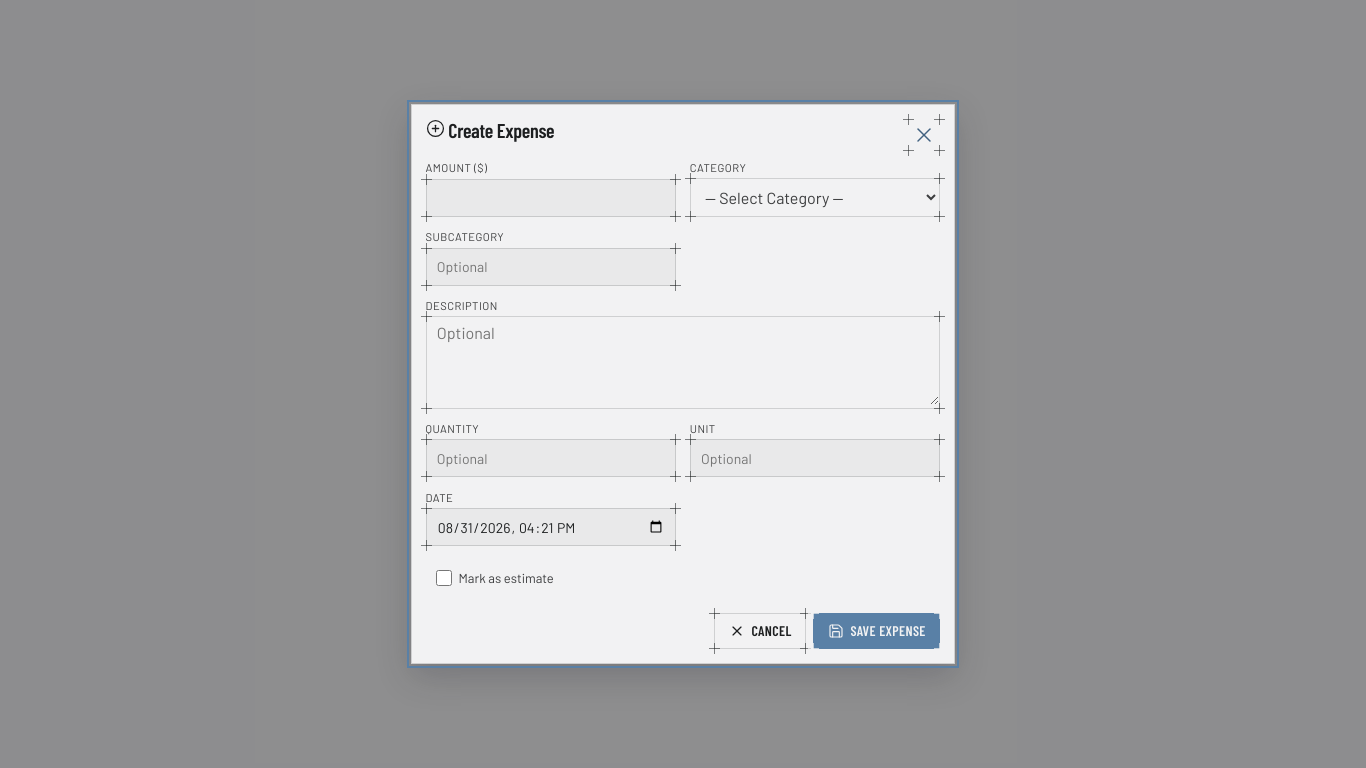
Scenario: ExpenseFormModal › auto-computes and displays per-unit cost when quantity is provided
The width and height of the screenshot is (1366, 768).
Type "5.00" into the number field labelled "Amount ($)" at (551, 198), box x1=427 y1=180 x2=675 y2=216
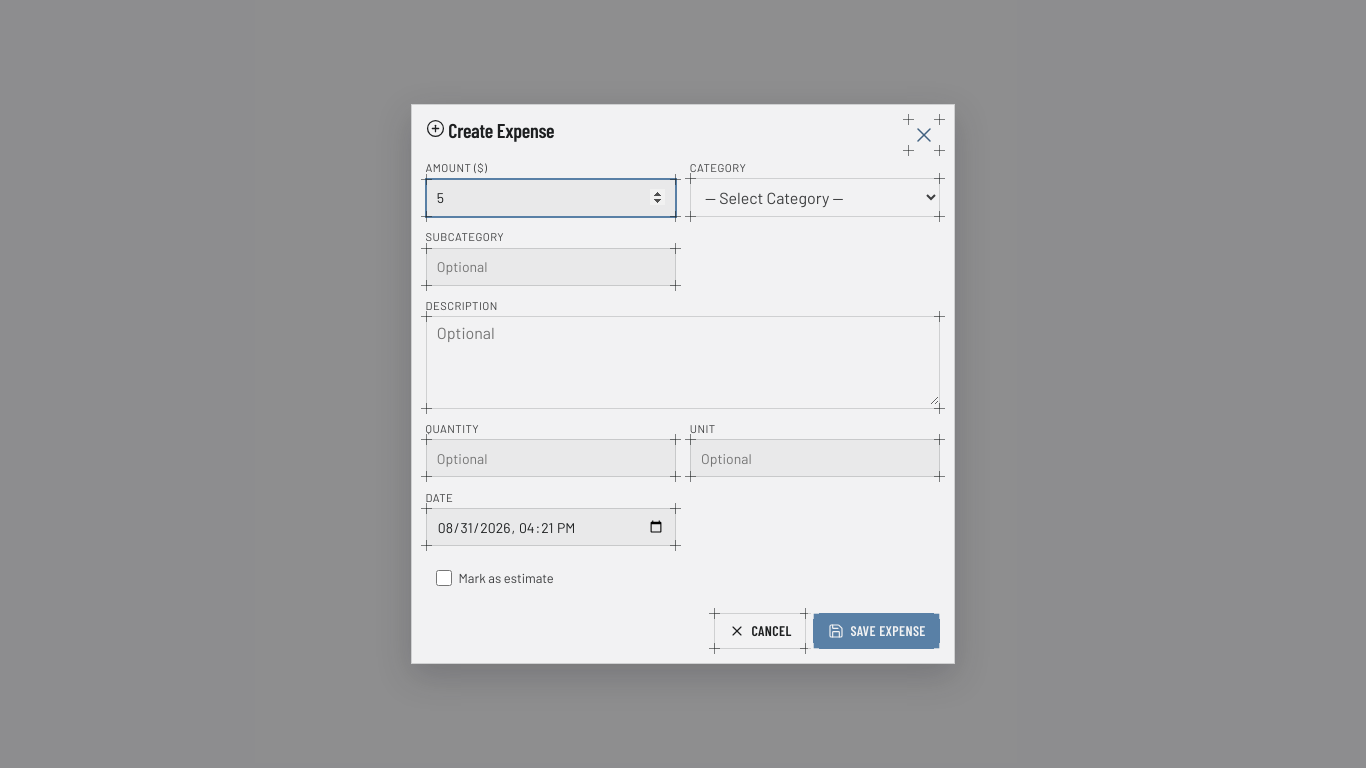
Type "4" into the number field labelled "Quantity" at (551, 458), box x1=427 y1=440 x2=675 y2=476
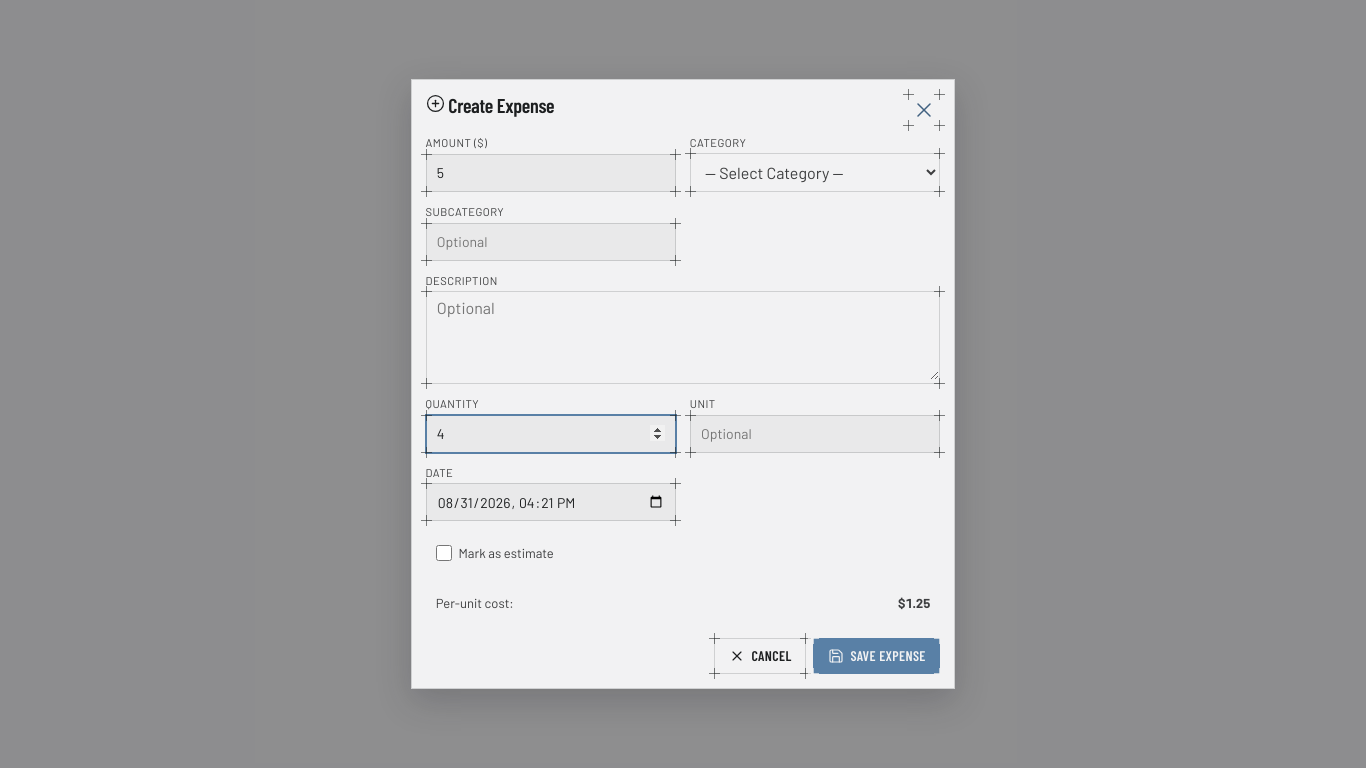
Expected: the text "Per-unit cost:" is shown, x1=436 y1=595 x2=514 y2=611
Expected: the text "$1.25" is shown, x1=898 y1=595 x2=930 y2=611
